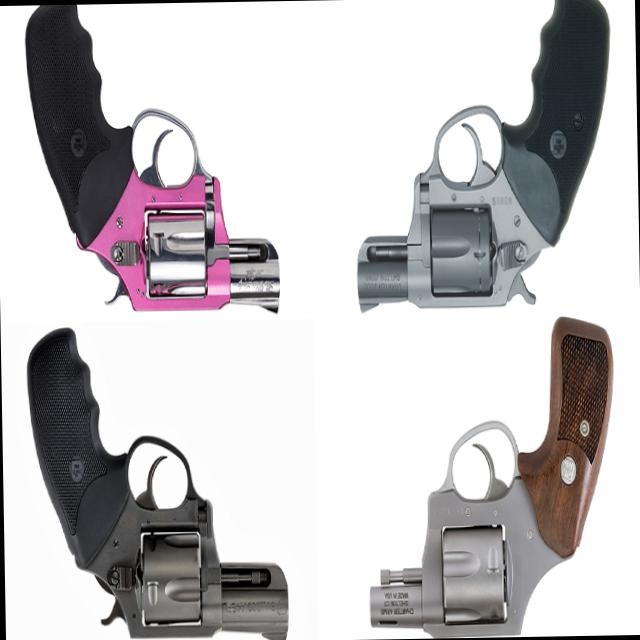Gun: (343, 319, 640, 639), (5, 317, 297, 640), (20, 1, 302, 327), (346, 0, 629, 315)
